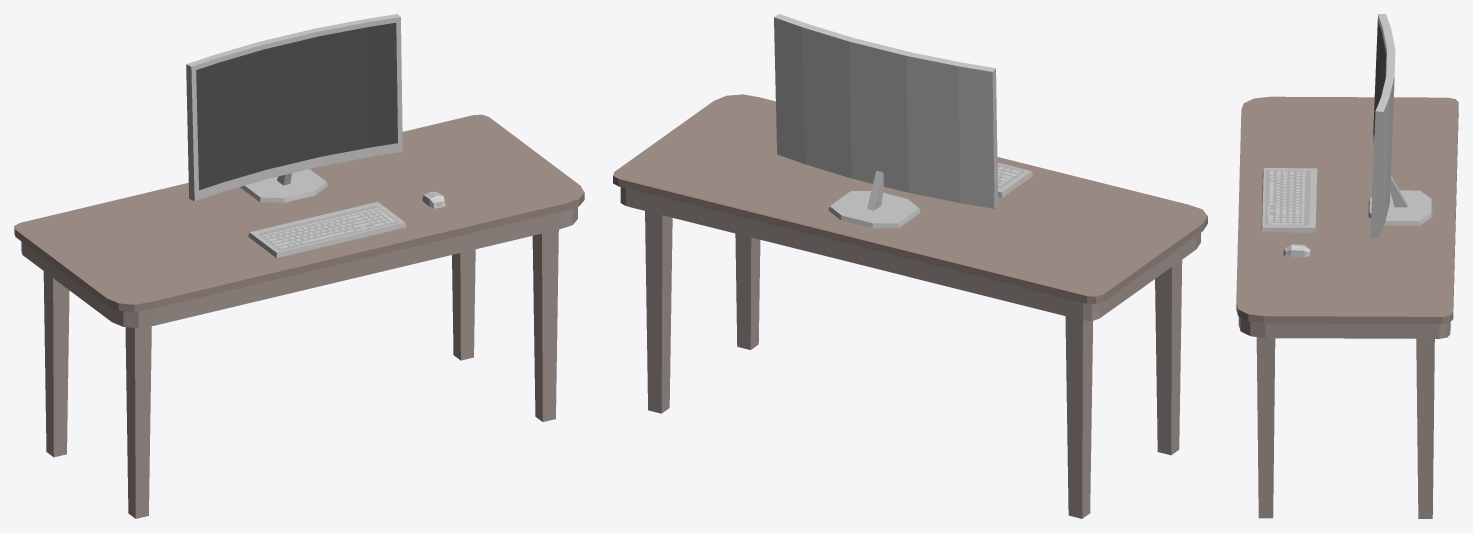
The model's file is pc_setup.glb.
The picture shows the model from 3 angles, left to right: view 1: azimuth 30°, elevation 25°; view 2: azimuth 150°, elevation 25°; view 3: azimuth 270°, elevation 25°; orthographic projection. The views are drawn at different scales.
Visible parts, largest first — view 1: New_Game_Object_mat0_0.047; view 2: New_Game_Object_mat0_0.047; view 3: New_Game_Object_mat0_0.047.
Boxes of the visible parts, left/top/right/bottom form: New_Game_Object_mat0_0.047: left=14, top=14, right=584, bottom=518; New_Game_Object_mat0_0.047: left=613, top=14, right=1207, bottom=518; New_Game_Object_mat0_0.047: left=1236, top=14, right=1458, bottom=518.
Bounding box in the file's own units: 1.33 × 1.02 × 0.5687.
